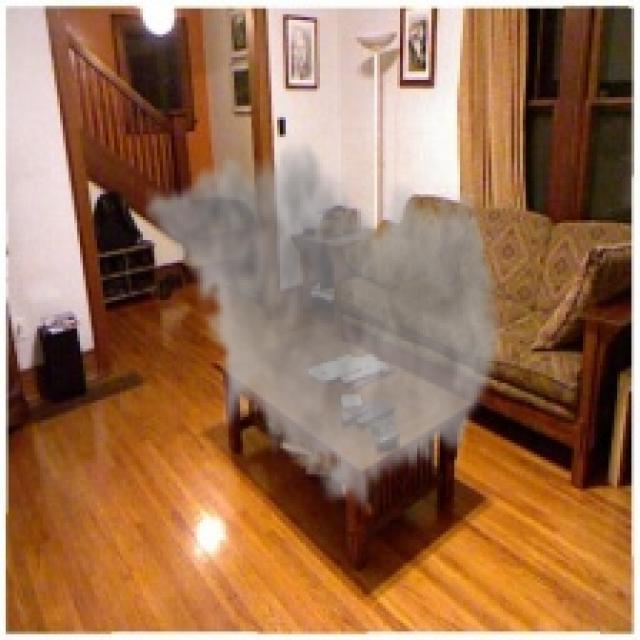Smoke: (140, 128, 506, 518)
